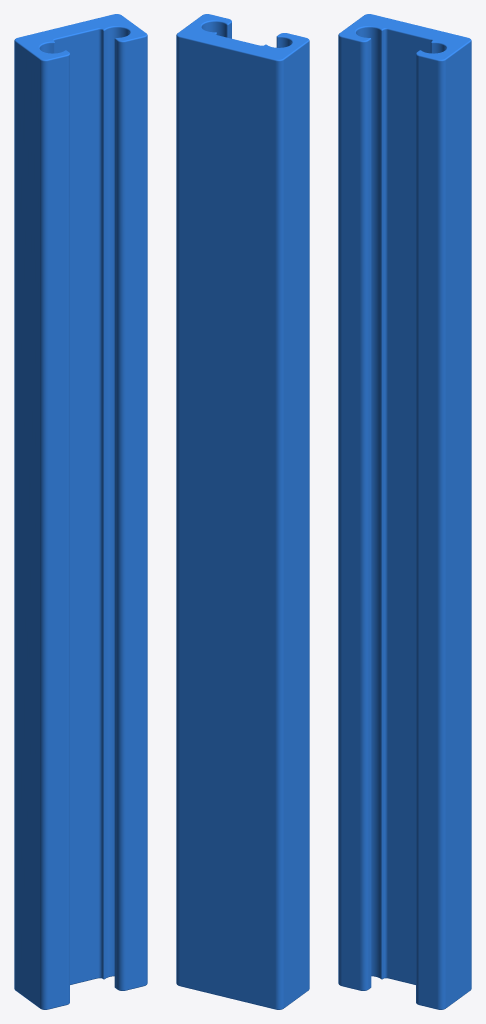
Rendered from longer-rails-ptfe-rail-method-2-ptfe-rail-support.glb.
The picture shows the model from 3 angles, left to right: view 1: azimuth 30°, elevation 25°; view 2: azimuth 150°, elevation 25°; view 3: azimuth 330°, elevation 25°; orthographic projection.
Parts seen in each view (by area): view 1: PTFE_rail_support; view 2: PTFE_rail_support; view 3: PTFE_rail_support.
Boxes of the visible parts, x1=… form: PTFE_rail_support: x1=14, y1=14, x2=147, y2=1009; PTFE_rail_support: x1=176, y1=14, x2=309, y2=1009; PTFE_rail_support: x1=338, y1=14, x2=471, y2=1009.
Bounding box in the file's own units: 20 × 170 × 10.
